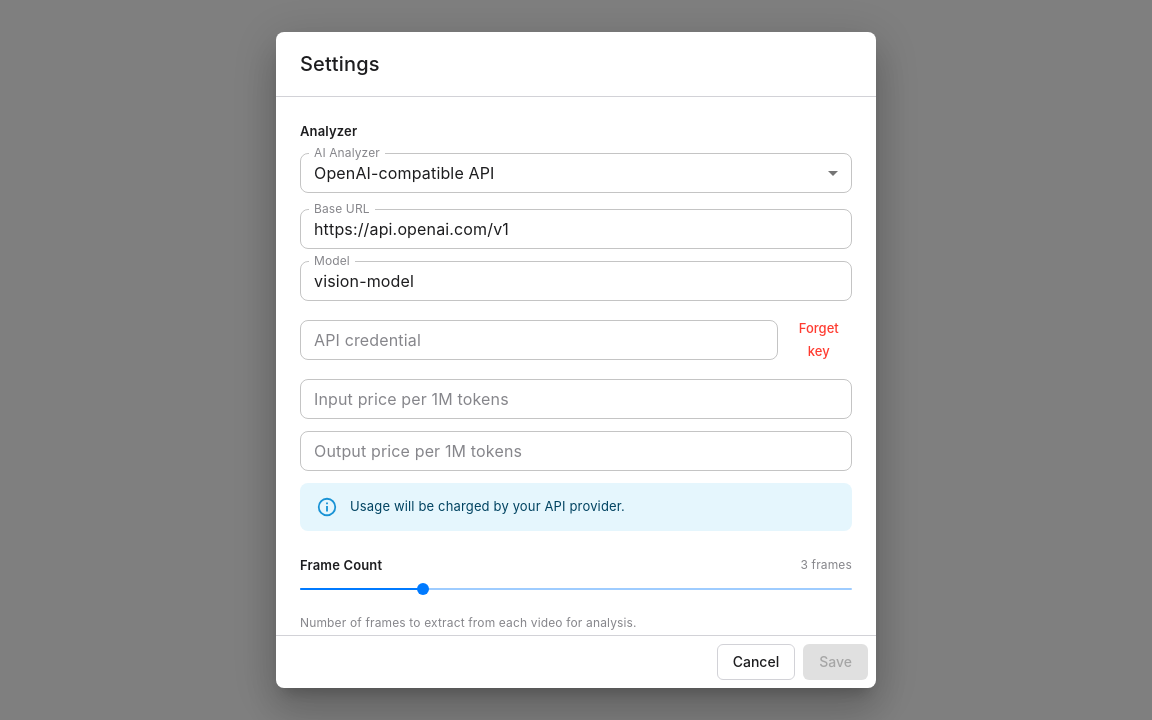
Test: settings modal › confirms a complete forget in place instead of closing the modal
The image size is (1152, 720).
Click the button with test id "forget-credential-button".
click(819, 340)  # box [786,313,852,367]
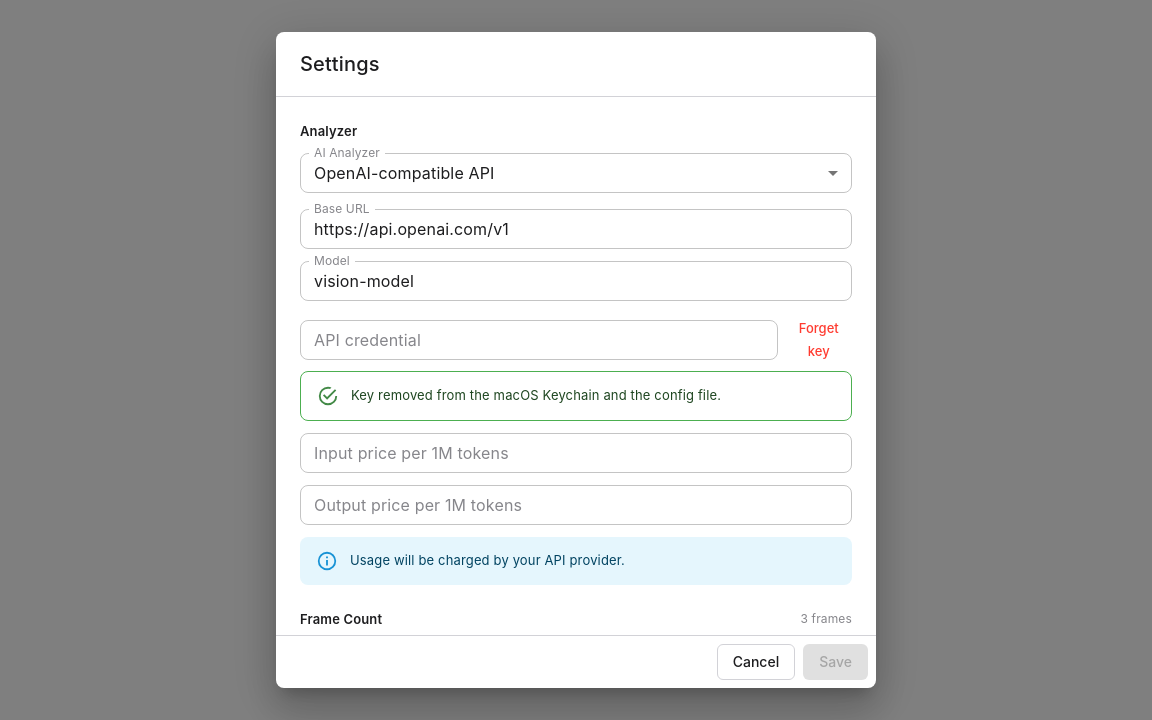
Check: the message with test id "forget-credential-result" reads "Key removed from the macOS Keychain and the config file.", box [351,387,721,403]
